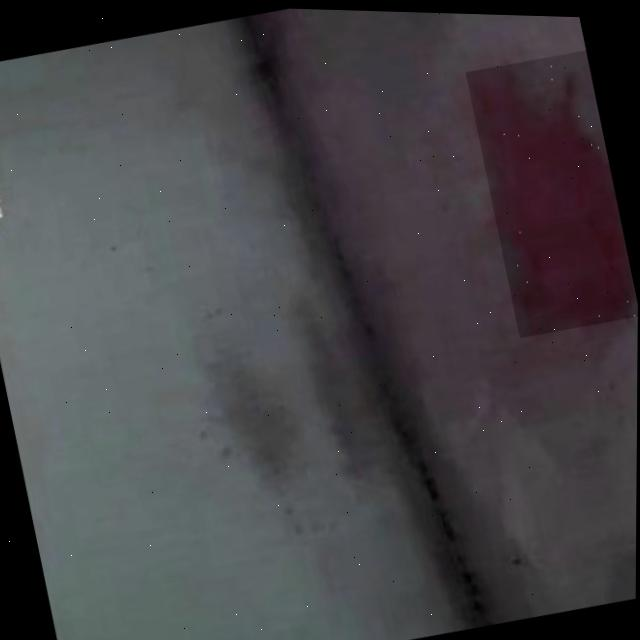spillage: (469, 66, 635, 321)
